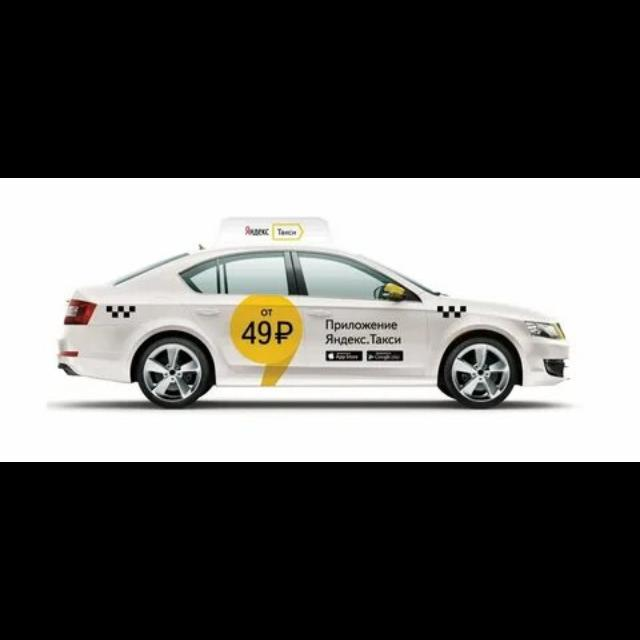taxi: (57, 215, 571, 409)
